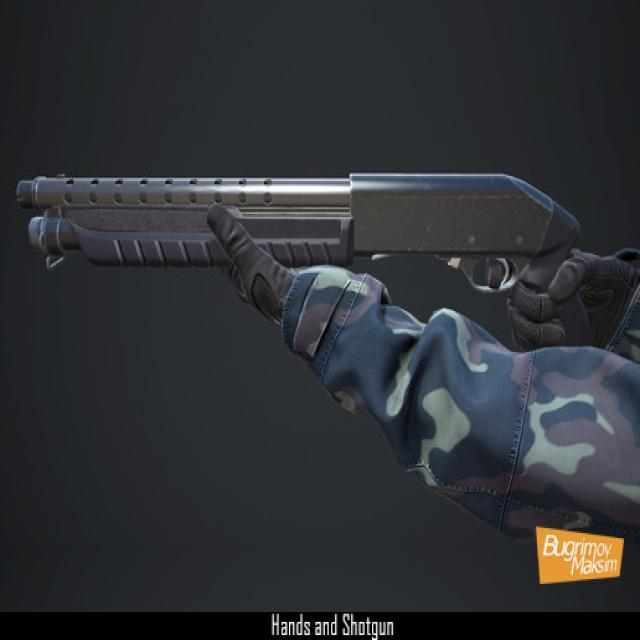ShotGun: (17, 174, 580, 294)
